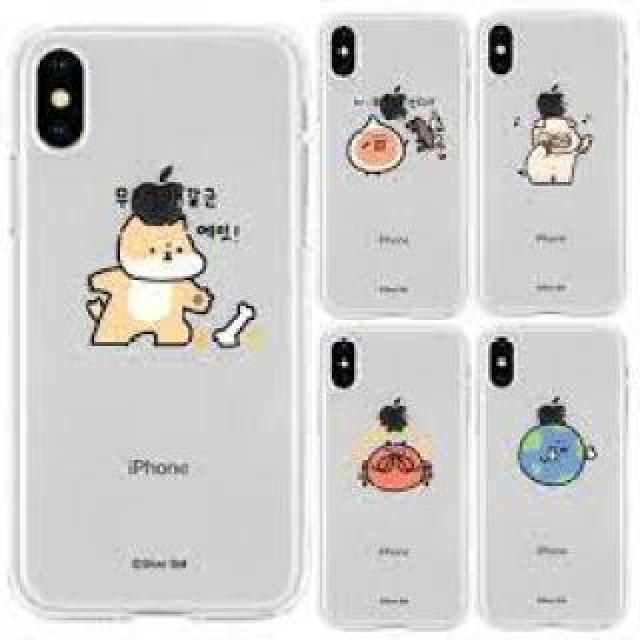smart phone: (15, 15, 297, 637), (480, 327, 635, 635), (485, 5, 635, 323), (323, 12, 475, 318), (315, 338, 472, 608)
